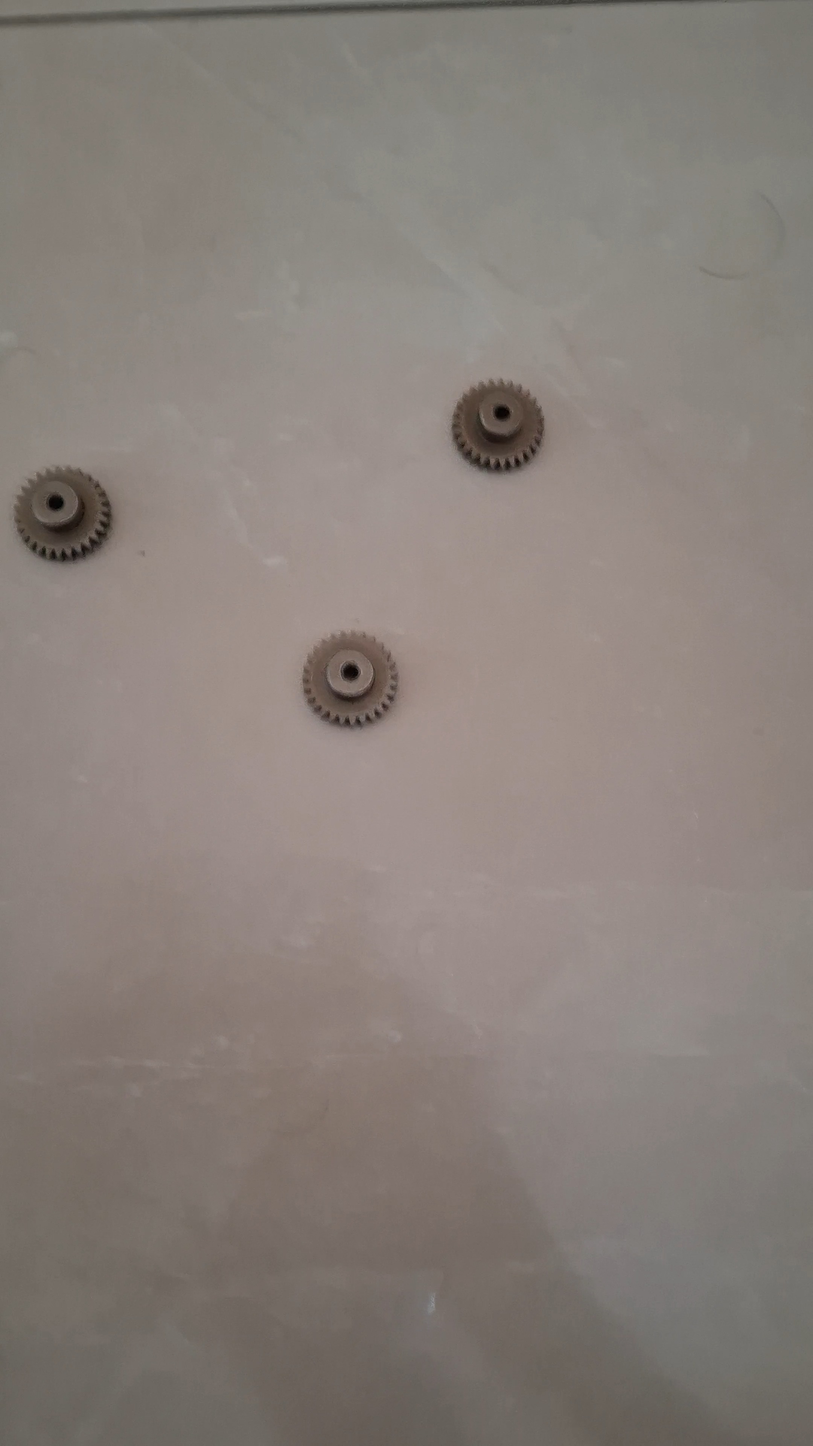spur gear: (14, 468, 111, 560), (303, 632, 397, 725), (452, 380, 544, 470)
